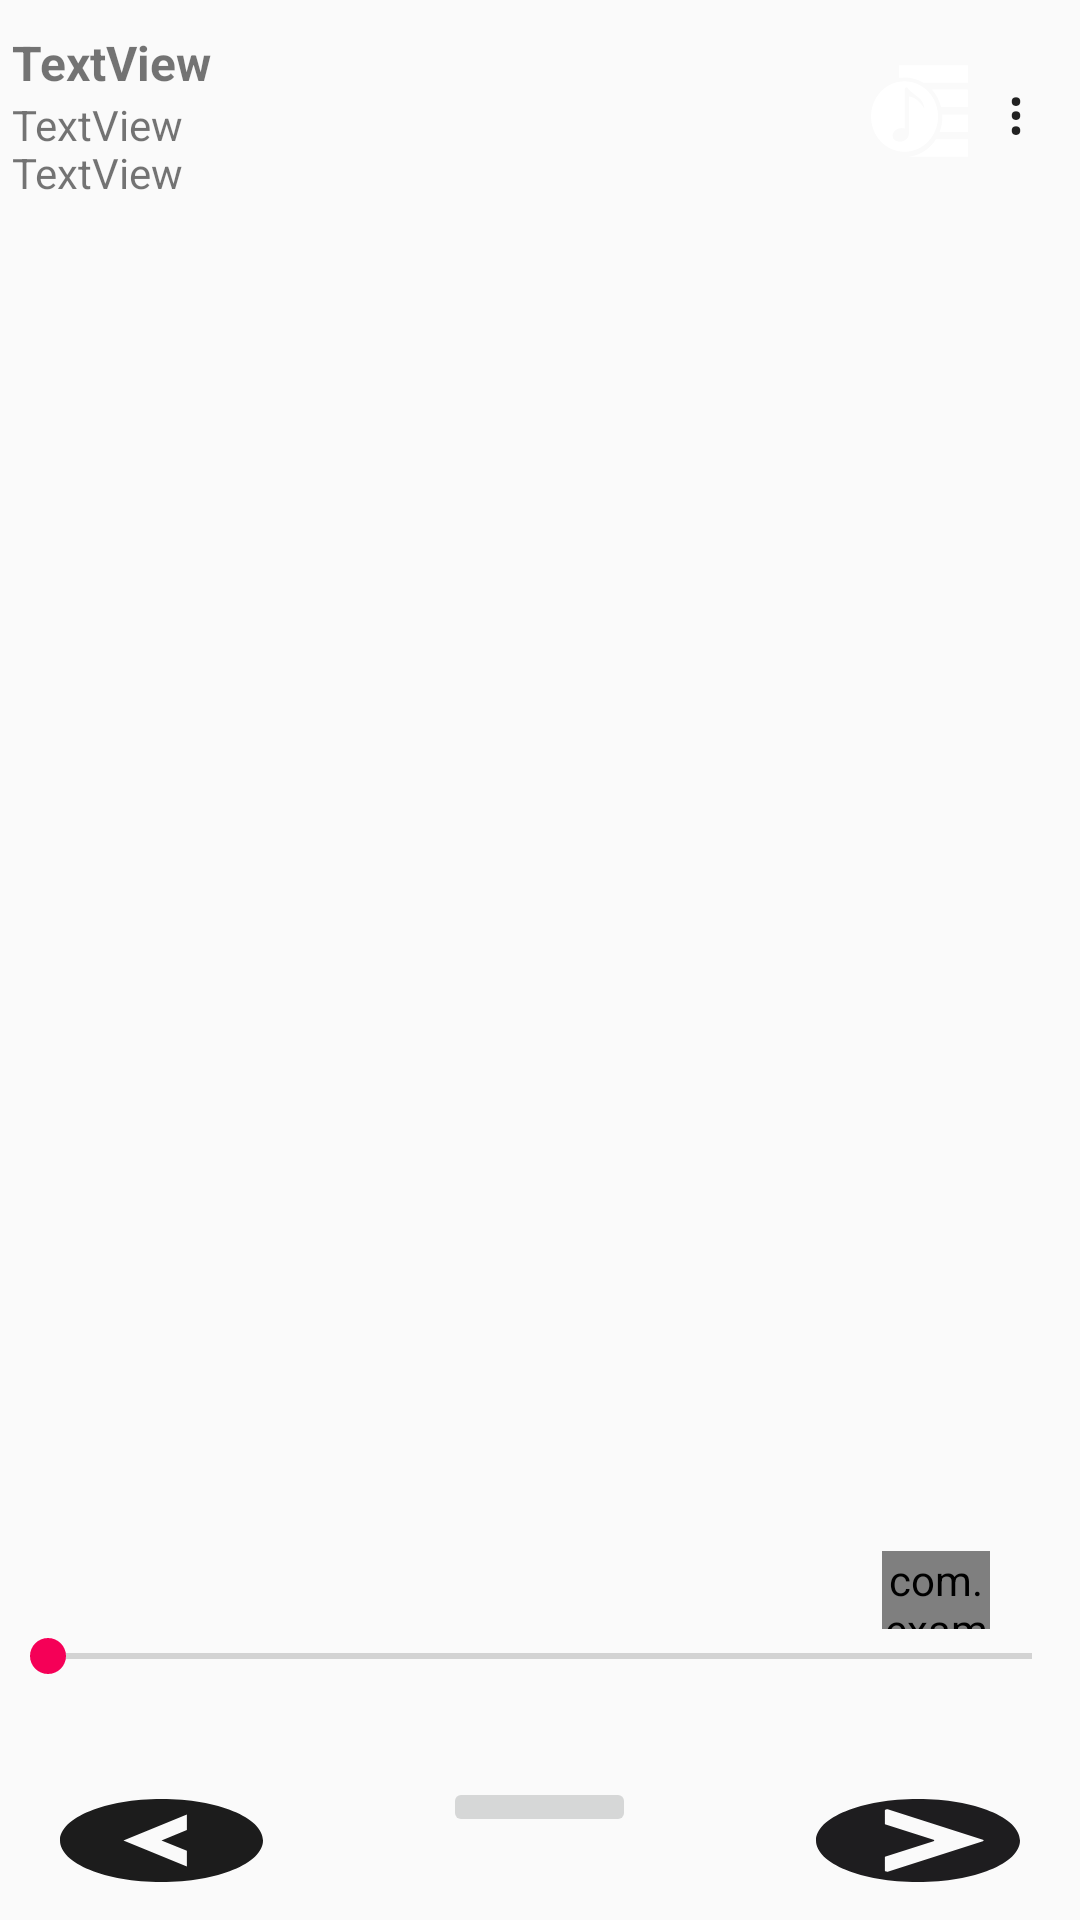

Named icons in this screenshot (1080 × 1920) and their centers, (x=x, y=y):
left chevron: (x=161, y=1840)
right chevron: (x=918, y=1840)
